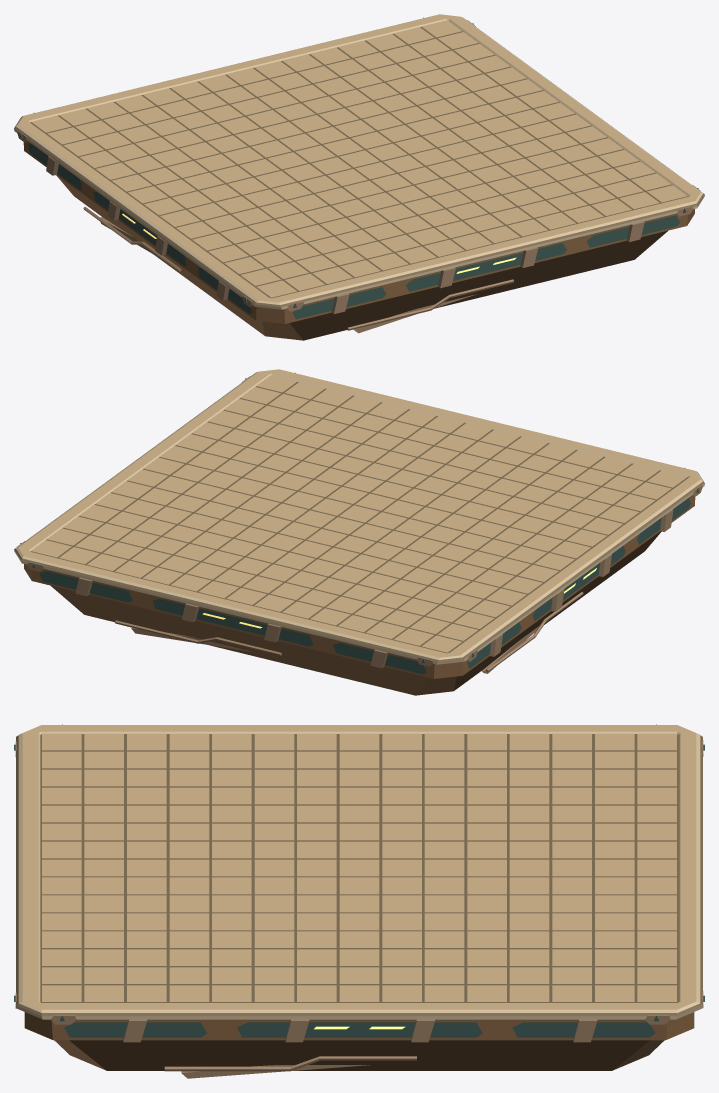
Rendered from overhaul-platform-garden.glb.
3 renders of one model, top to bottom at view 1: azimuth 30°, elevation 25°; view 2: azimuth 150°, elevation 25°; view 3: azimuth 270°, elevation 25°, orthographic. The views are drawn at different scales.
Parts seen in each view (by area): view 1: overhaul-platform-garden; view 2: overhaul-platform-garden; view 3: overhaul-platform-garden.
Boxes of the visible parts, left/top/right/bottom form: overhaul-platform-garden: left=14, top=14, right=704, bottom=340; overhaul-platform-garden: left=14, top=369, right=704, bottom=695; overhaul-platform-garden: left=14, top=724, right=704, bottom=1078.
Size of the model in its own units: 21.12 by 3.78 by 21.12.
